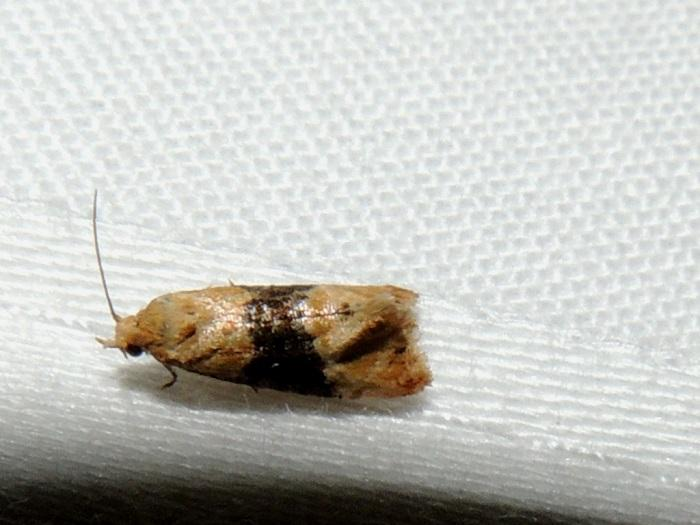Eupoecilia Ambiguella: (85, 184, 436, 404)
